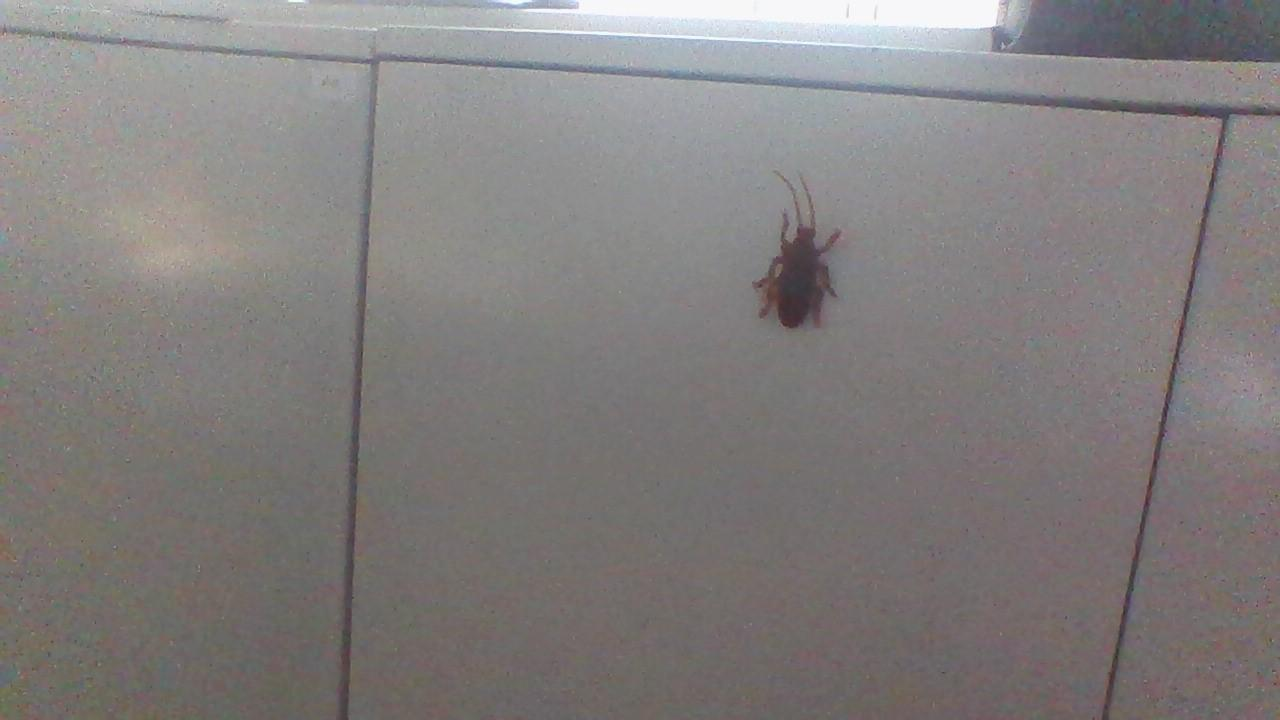cockroach: (759, 163, 844, 343)
